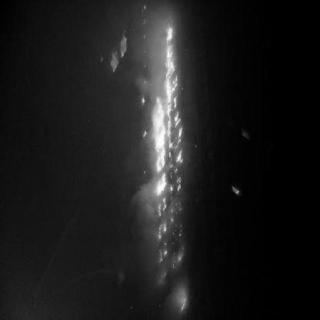Fire: (139, 12, 190, 266)
